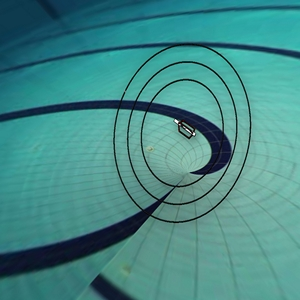circle: (100, 39, 271, 230)
submarine: (161, 112, 208, 148)
